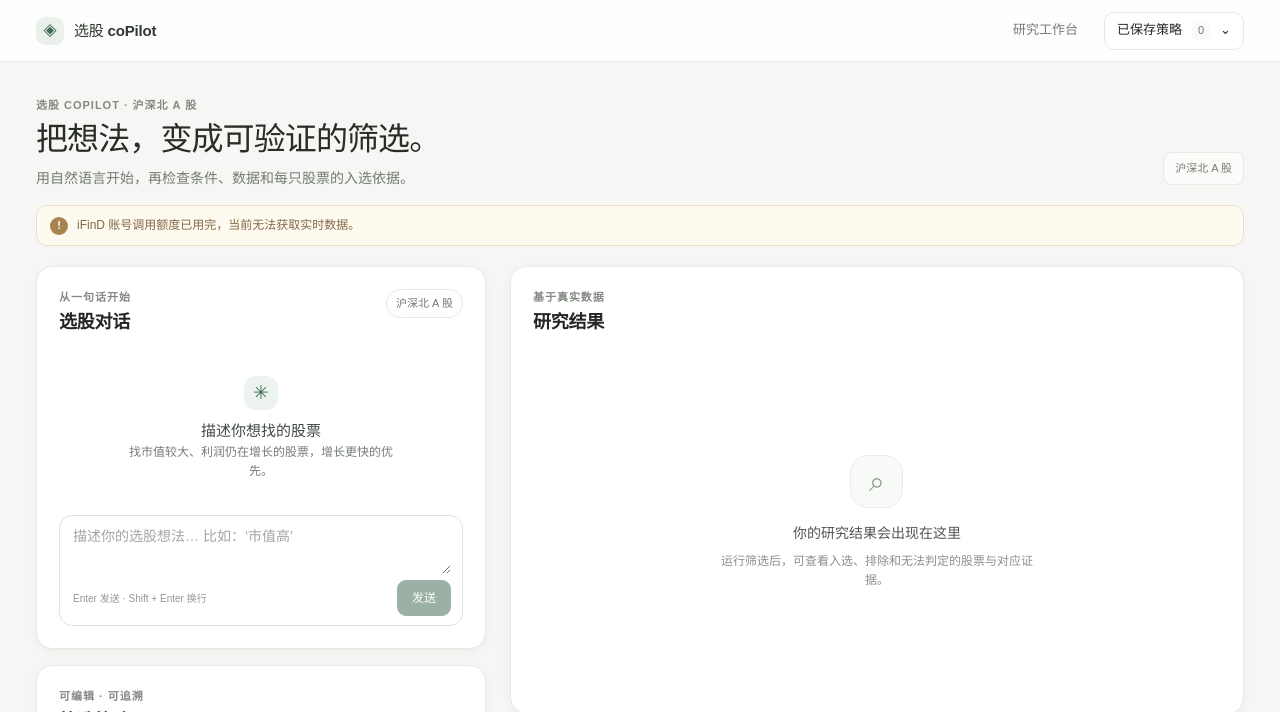
Test case: CopilotWorkspace › describes market-wide mixed-industry ranks as candidate positions
The width and height of the screenshot is (1280, 712).
Type "市值至少1000亿元" into the text box named "请输入选股需求" at (262, 550), box 73,526 -> 451,574
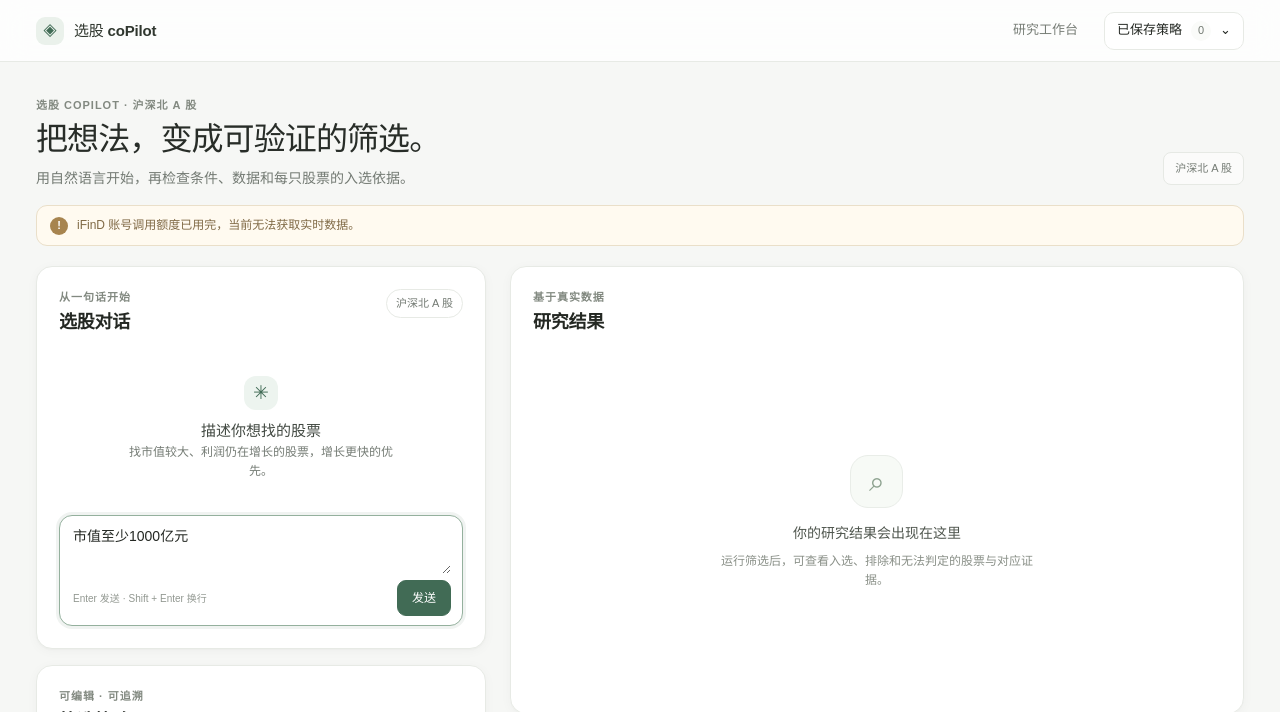
Click the button "发送" at (424, 598), box 397,580 -> 451,616
(page scrolled)
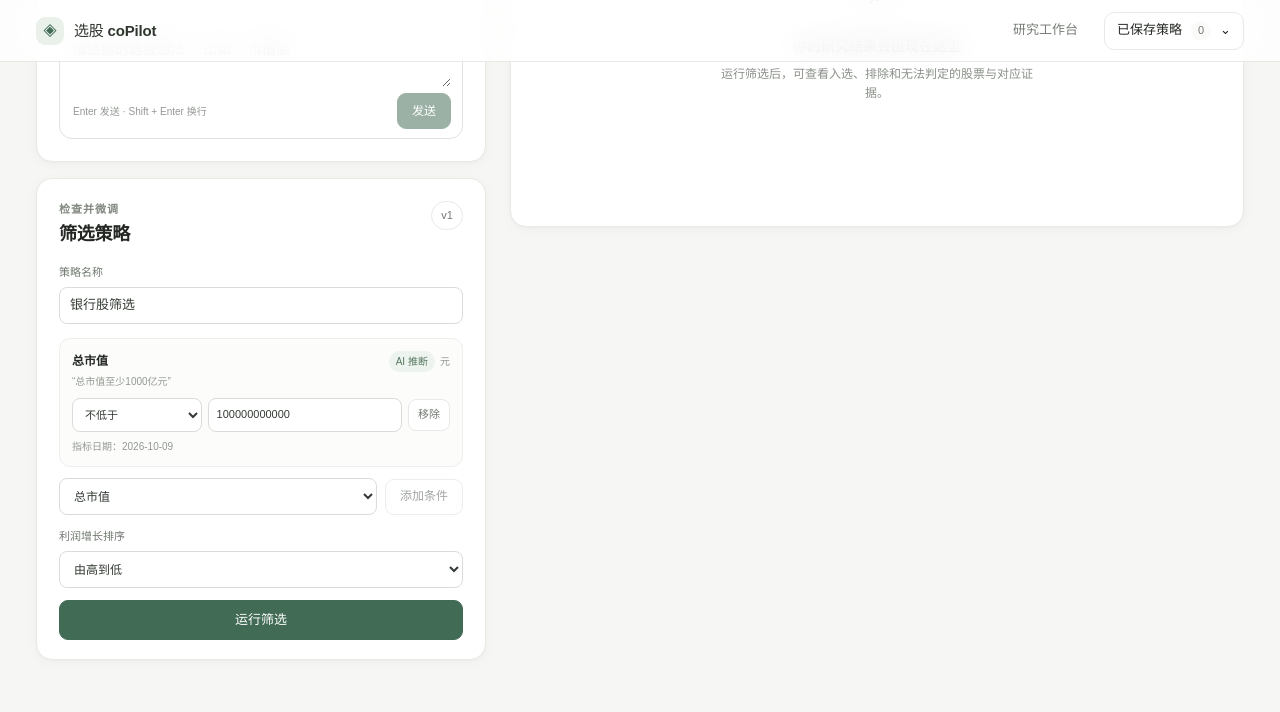
Click the button "运行筛选" at (261, 620), box 59,600 -> 463,640
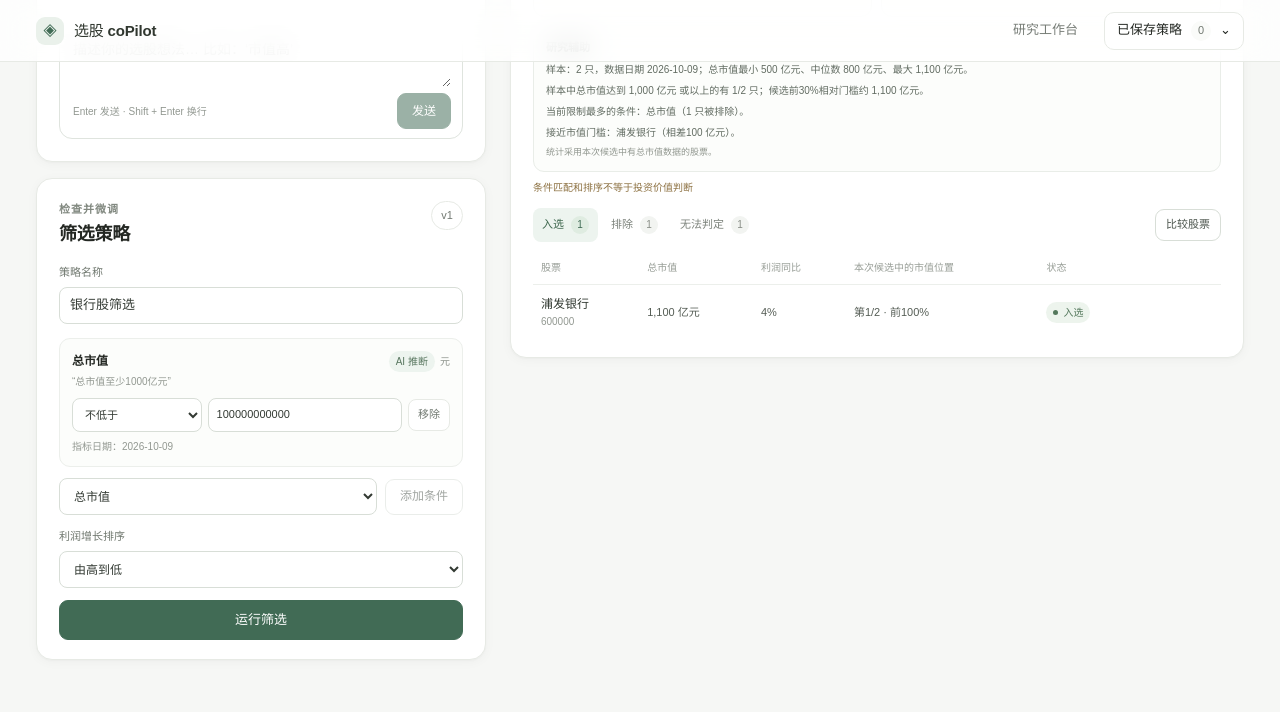
Check: the column heading "本次候选中的市值位置" is shown, box 846,251 -> 1038,285
Check: the element "研究辅助" shows "候选前30%", box 746,85 -> 872,96
